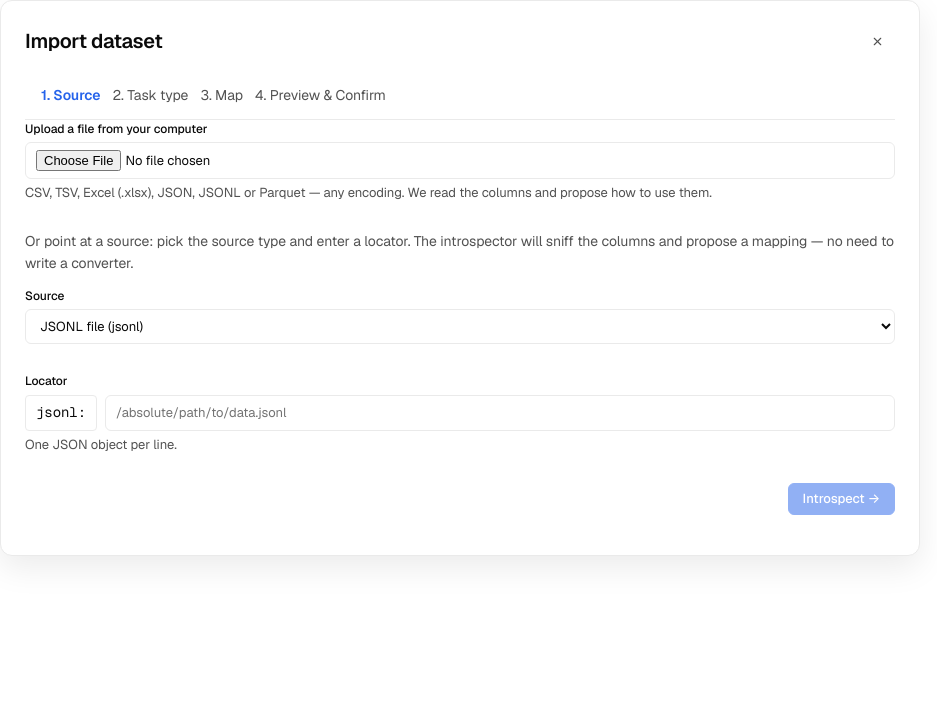
Test case: DatasetImportWizard › persists the picked recipe to the project (PUT /projects/77/recipe)
The width and height of the screenshot is (937, 718).
Type "/tmp/data.jsonl" into the field with test id "locator-input" at (500, 413), box [105,395,895,431]
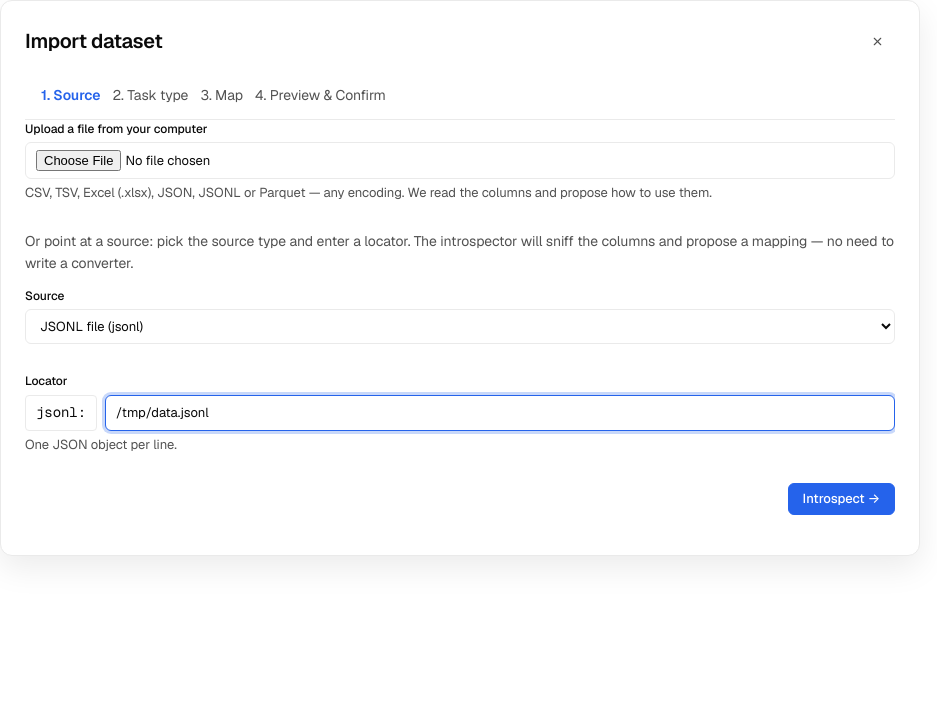
Click the button with test id "introspect-btn" at (841, 499), box [788,483,895,515]
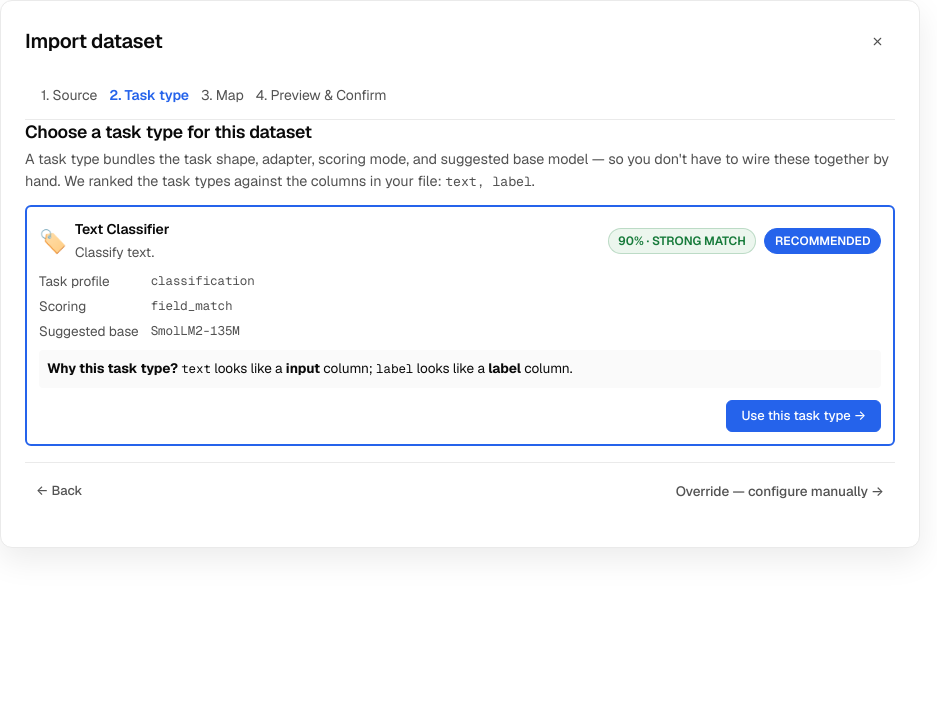
// Pick the top sniffed recipe.
Click the button with test id "recipe-select-classification" at (804, 416), box [726,400,881,432]
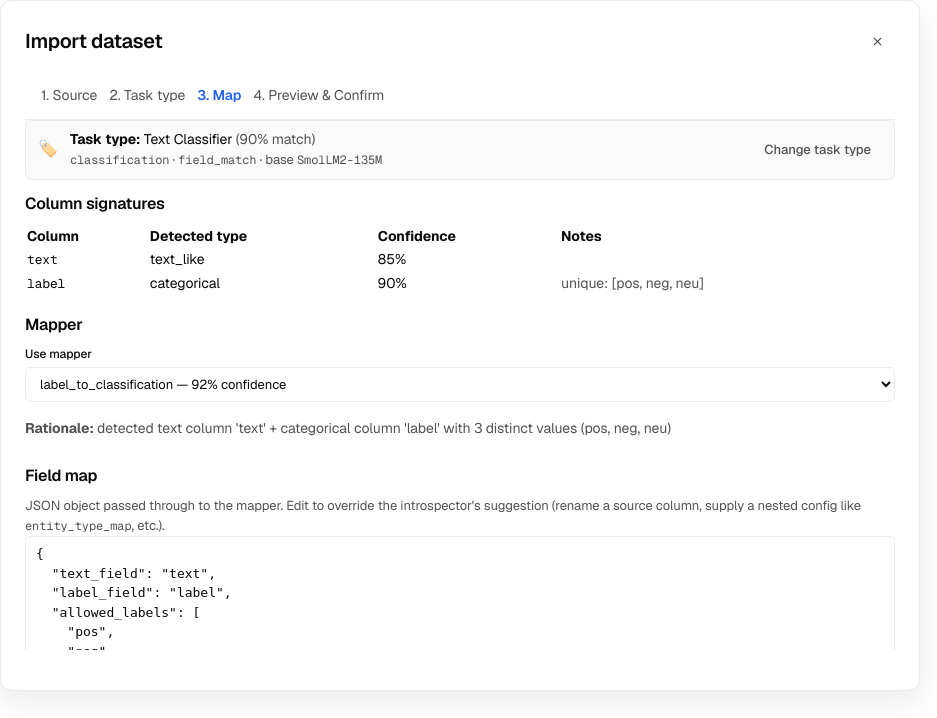
Check: the element with test id "recipe-summary-chip" is shown, box [25,120,895,180]
